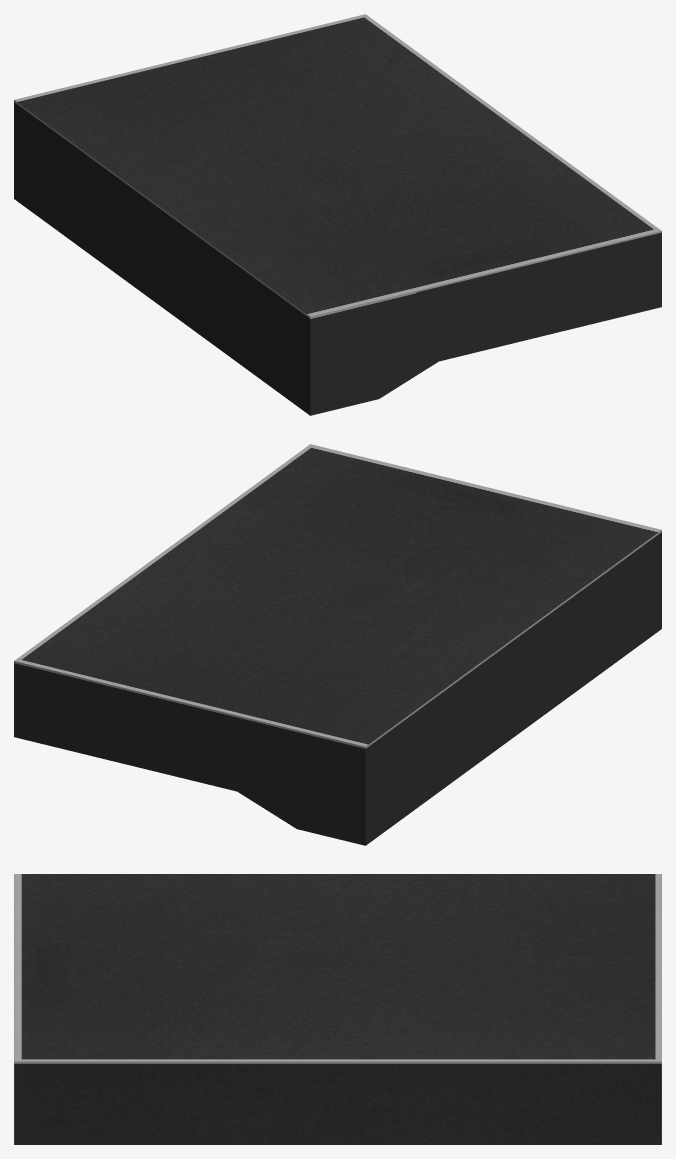
The model's file is MS_Stage_1.fbx.
3 views of the same model, one above another, from view 1: azimuth 30°, elevation 25°; view 2: azimuth 150°, elevation 25°; view 3: azimuth 270°, elevation 25° (orthographic). The views are drawn at different scales.
Visible parts, largest first — view 1: MS_Stage; view 2: MS_Stage; view 3: MS_Stage.
Part boxes in pixels (box(x1,y1,x2,y2)): MS_Stage: box(14, 14, 661, 415); MS_Stage: box(14, 444, 661, 845); MS_Stage: box(14, 874, 661, 1144).
Bounding box in the file's own units: 1053 × 284 × 1538.
